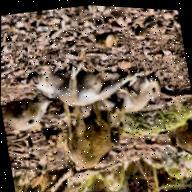boar: (12, 49, 130, 121), (47, 89, 139, 171), (108, 70, 166, 118)
